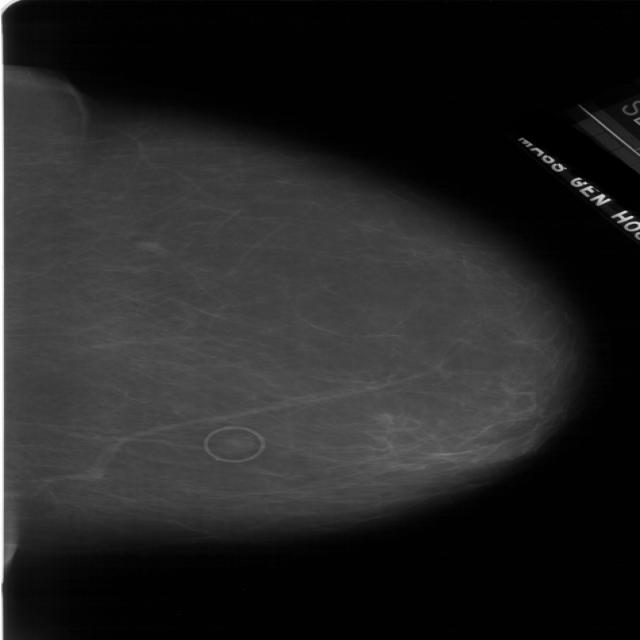tumour: (131, 239, 161, 251)
